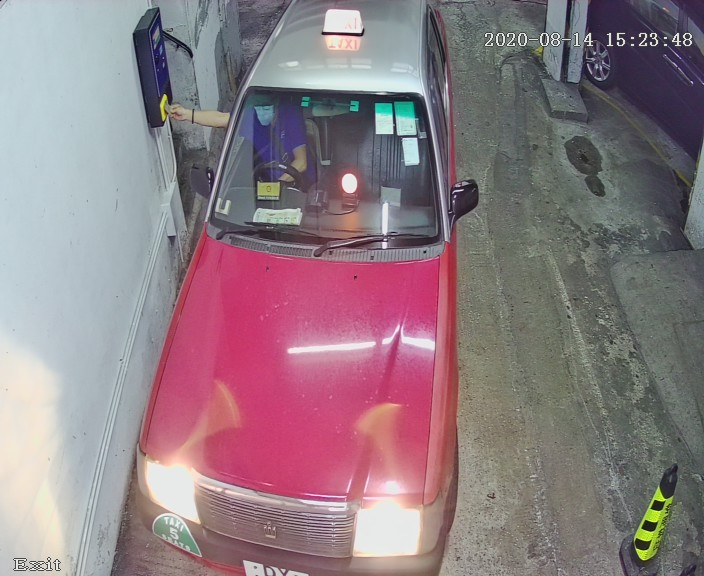taxi: (129, 3, 488, 576)
taxi_mark: (147, 506, 205, 563)
